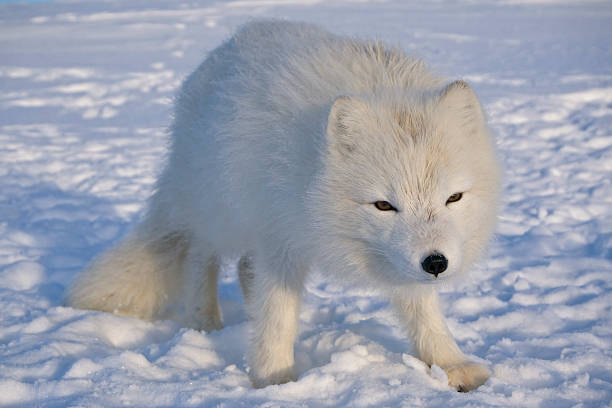arcticfox: (331, 83, 488, 301)
